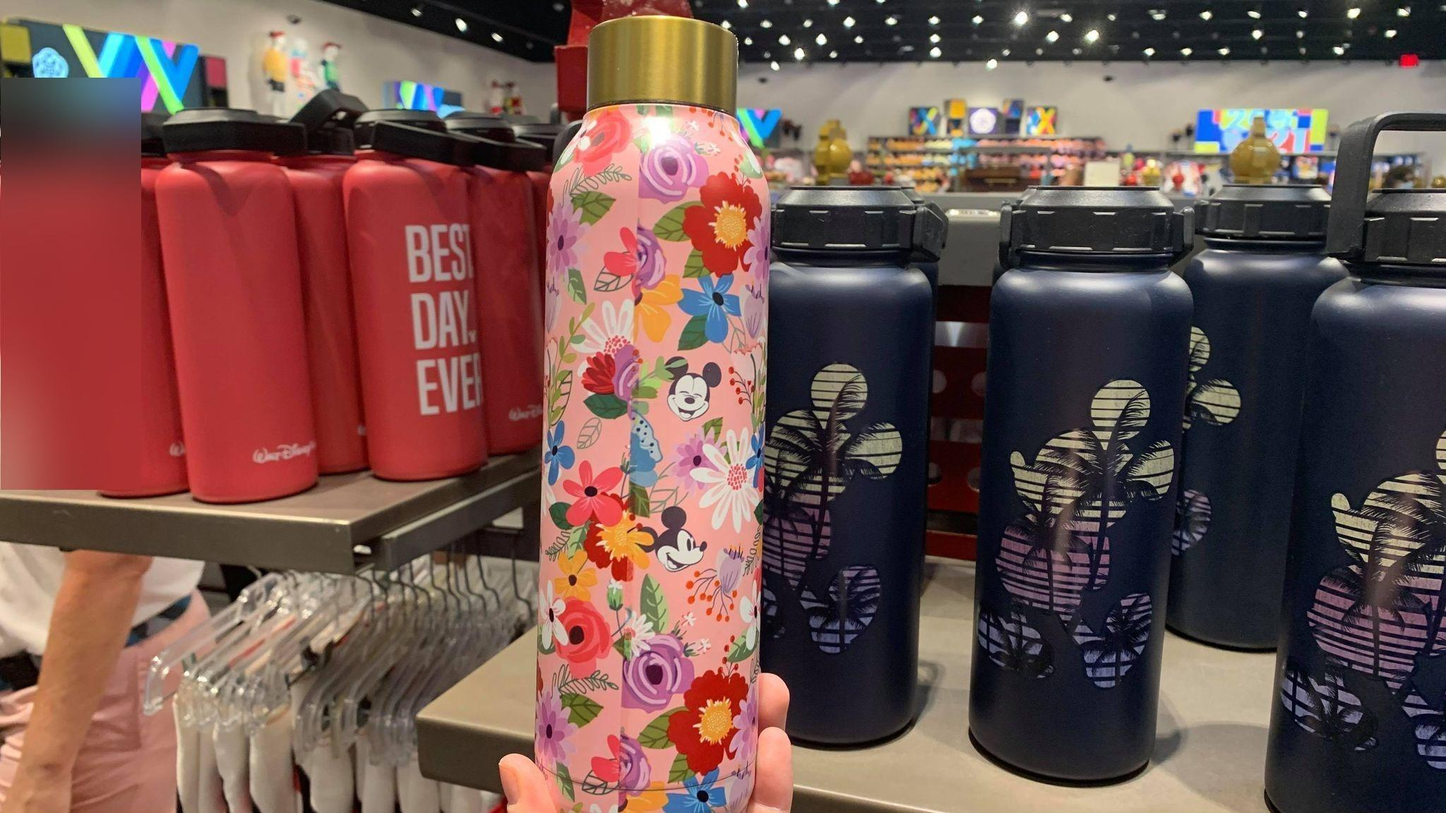gym bottle: (530, 13, 772, 809), (966, 179, 1197, 787), (1260, 107, 1445, 812), (763, 179, 948, 753), (1177, 174, 1334, 646), (155, 100, 322, 502), (340, 97, 489, 478)
